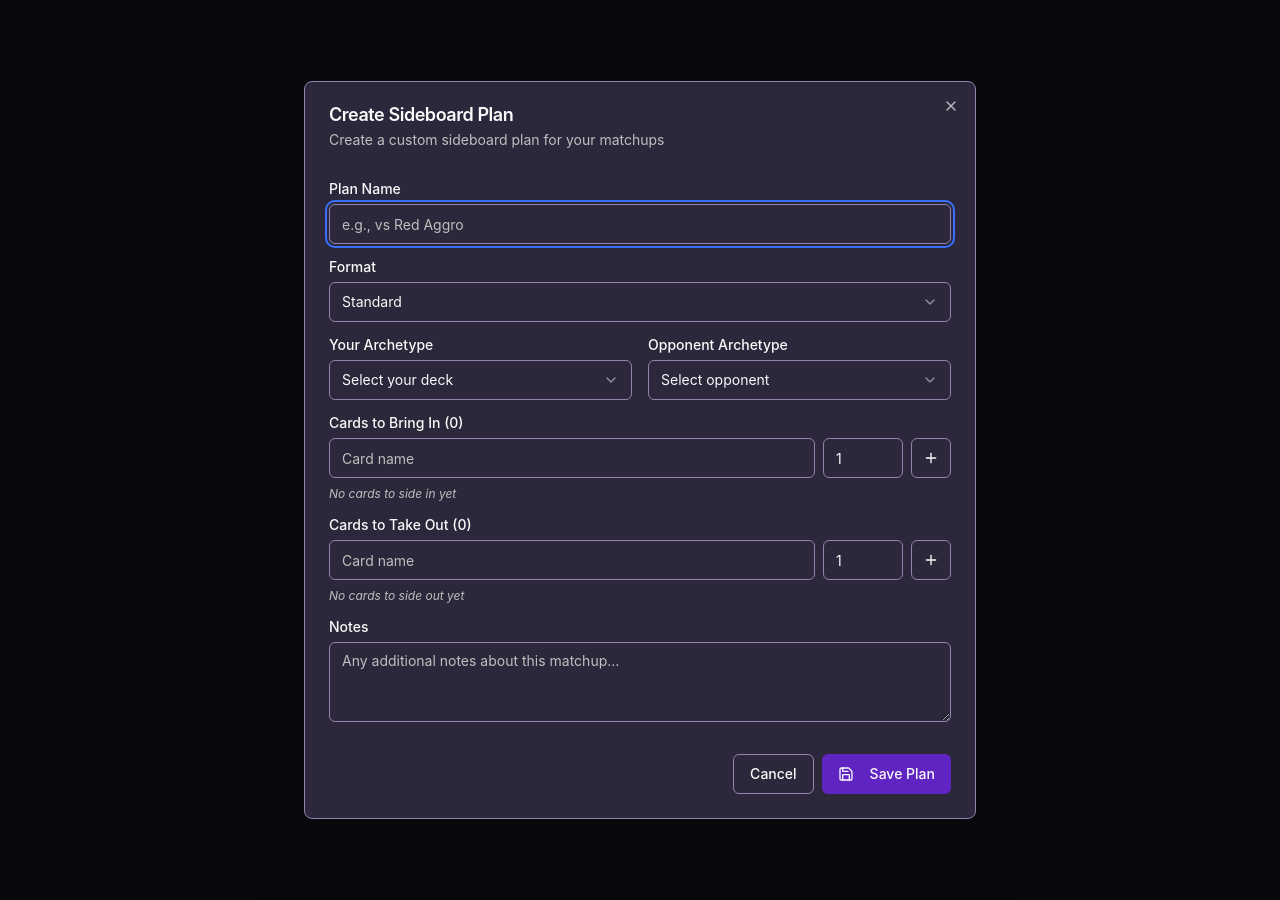
SideboardPlanEditor — list semantics (#1447, WCAG 1.3.1) › promotes the side-in list to <ul role='list'> as soon as a card is added
In the field with placeholder "Card name" below "Cards to Bring In (": x=572, y=458 [329,438,815,478], type "Fry"
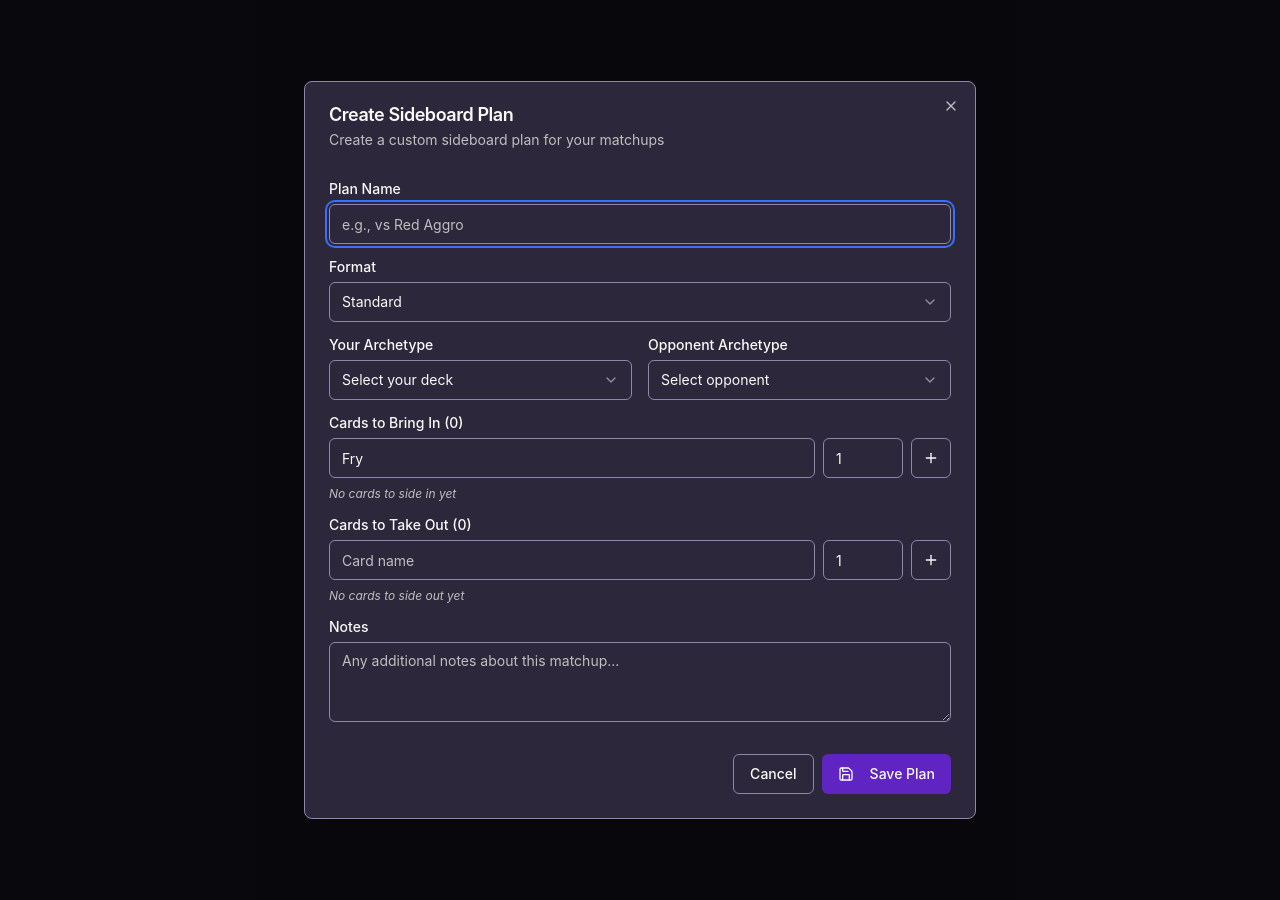
Click the button named "add card to side in": x=931, y=458 [911,438,951,478]
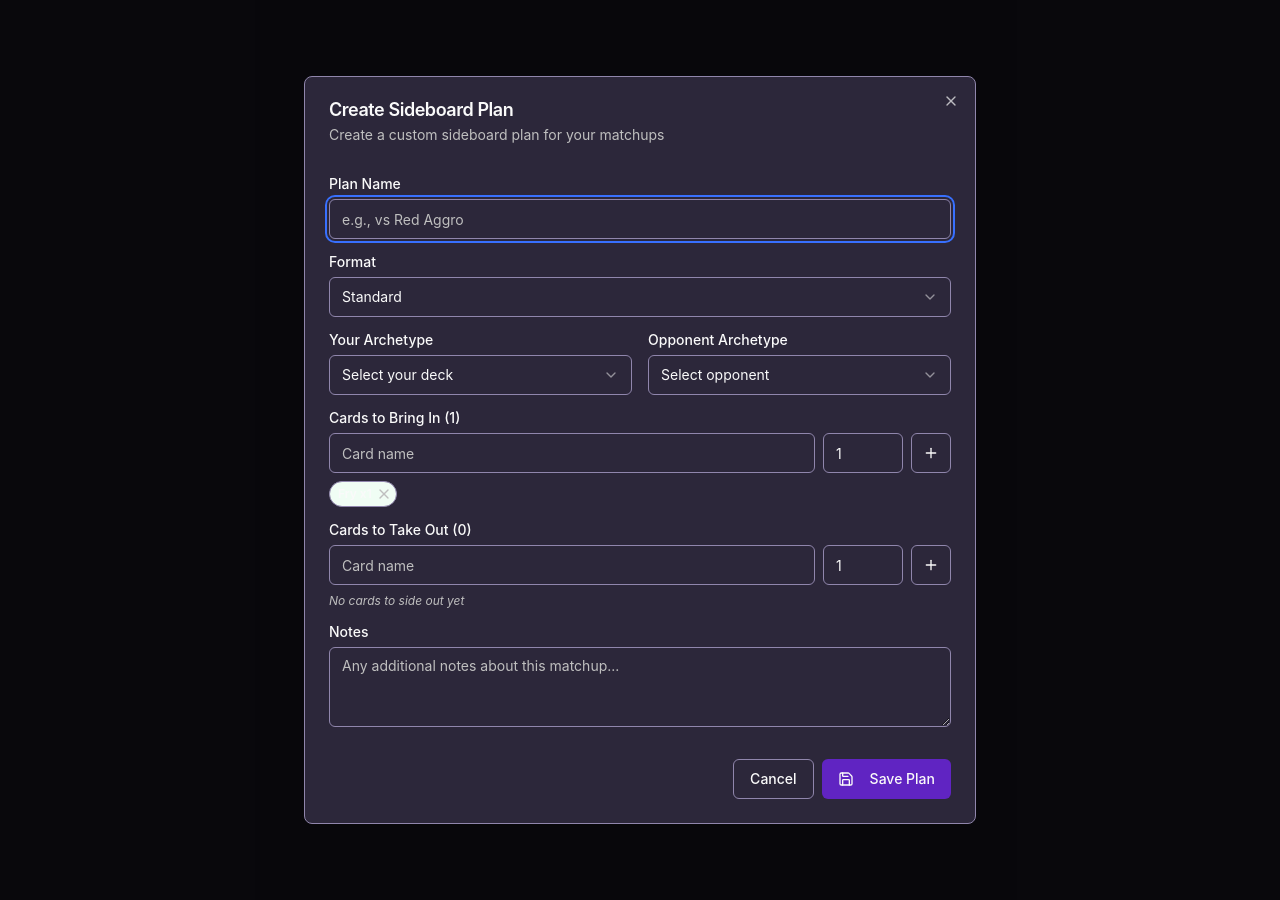
Result: the number of list items is 1 at [329,481,397,507]
